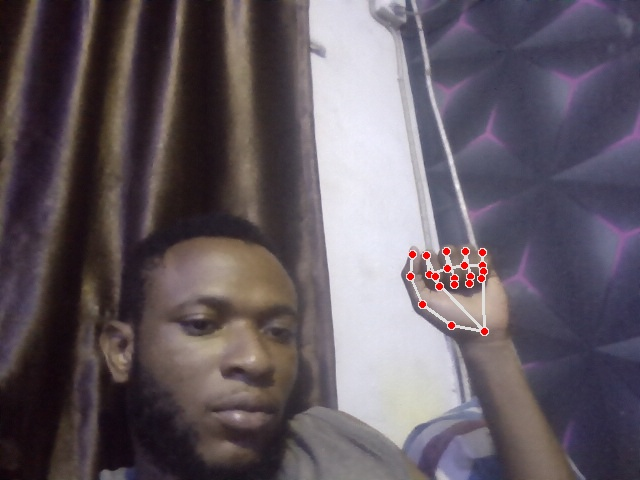number0: (401, 247, 524, 335)
